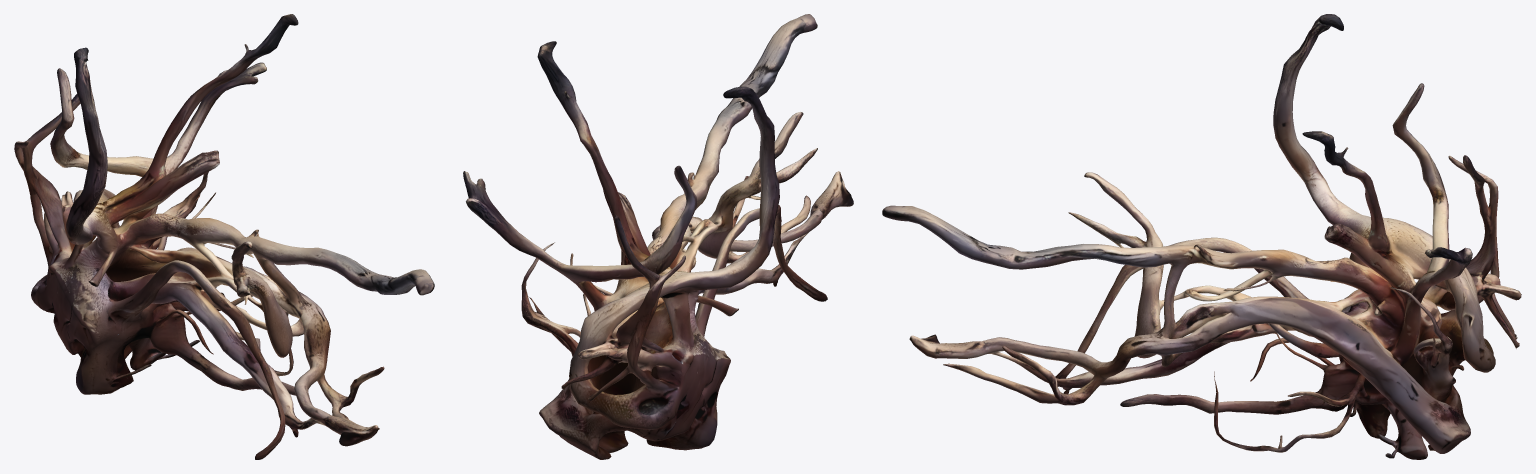
3 renders of one model, left to right at view 1: azimuth 30°, elevation 25°; view 2: azimuth 150°, elevation 25°; view 3: azimuth 270°, elevation 25°, orthographic. The views are drawn at different scales.
Parts seen in each view (by area): view 1: model; view 2: model; view 3: model.
Boxes of the visible parts, x1,y1,x2,y2 form: model: (14,14,434,459); model: (463,14,853,459); model: (882,14,1521,459).
Bounding box in the file's own units: 0.9228 × 1.28 × 1.89.
1 material, 1 textured.
